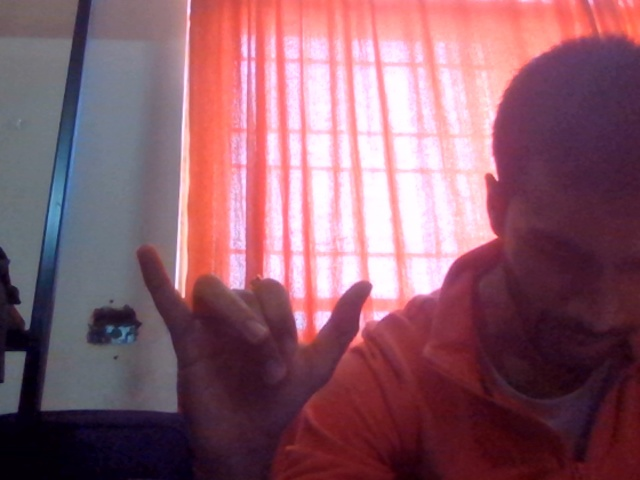Y: (93, 198, 442, 436)
